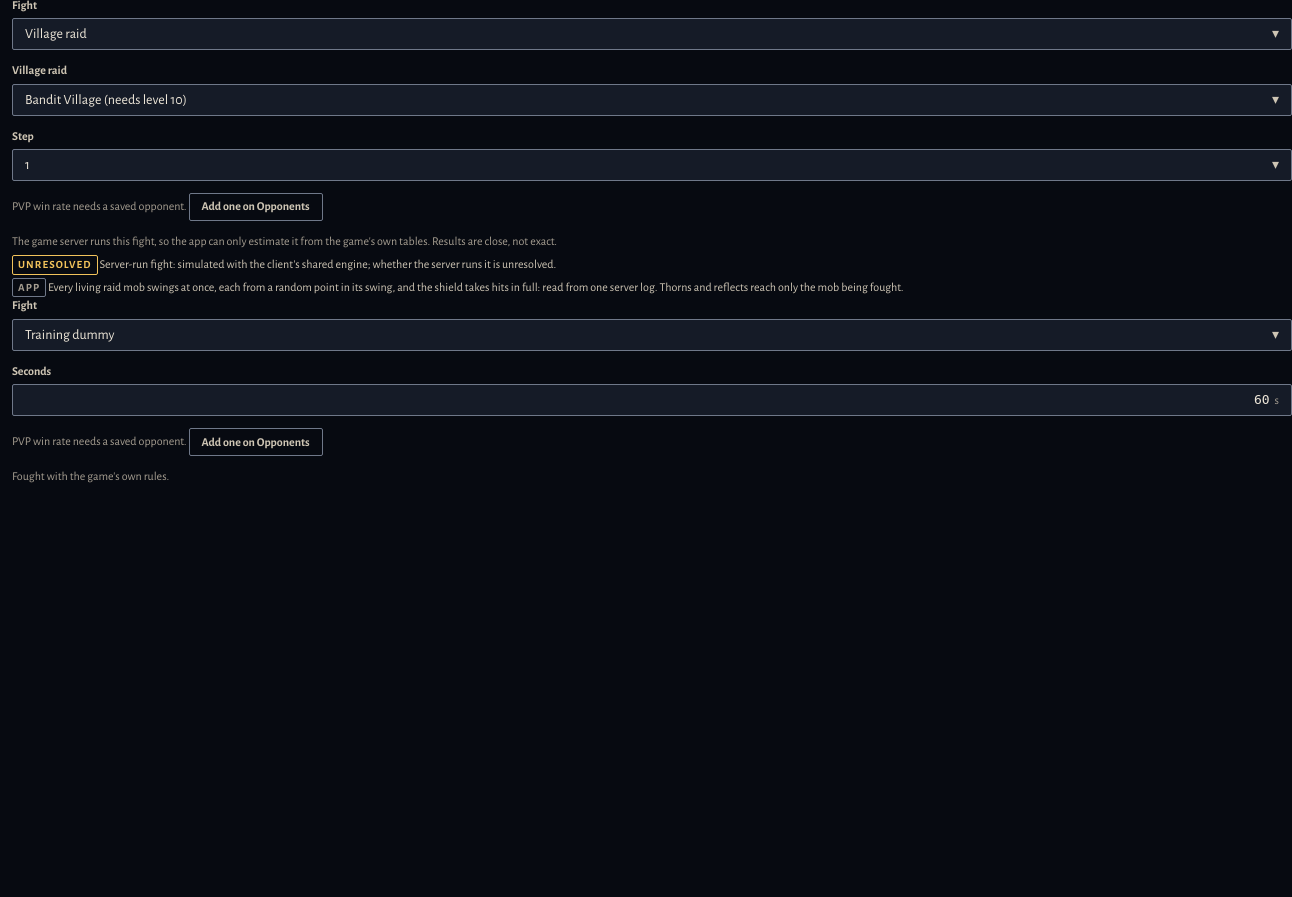
Test: the Fortress boss fields show the shield, drop Stars for the Core and restore them for the Top
Select "Fortress boss" in the 2nd dropdown labelled "Fight": (638, 335) [13,320,1264,350]
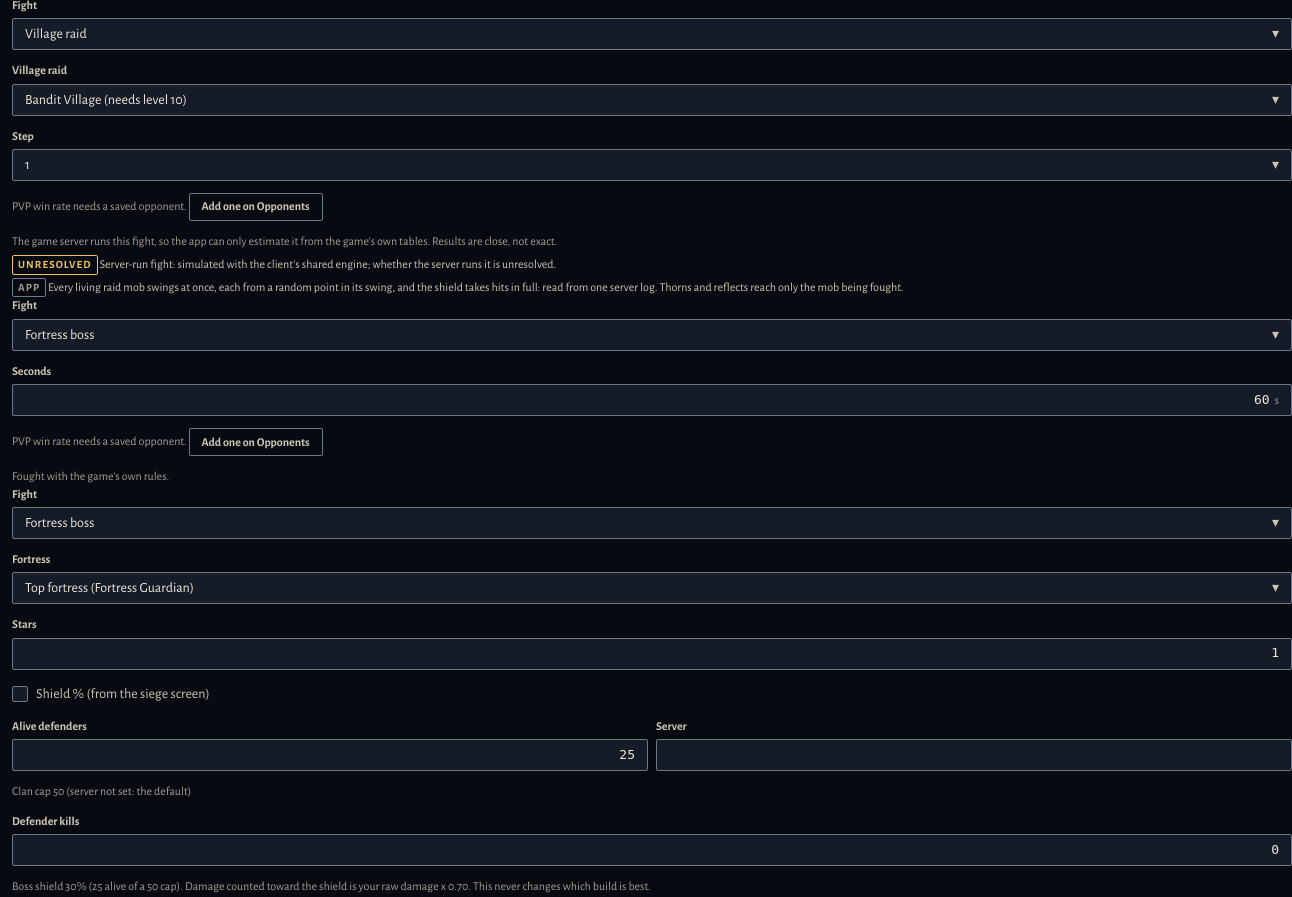
Expected: the field labelled "Stars" is shown, [25,644,1279,663]
Expected: the text with test id "fortress-shield" shows "shield 30% (25 alive of a 50 cap)", [12,880,651,892]
Expected: the text with test id "clan-cap" shows "cap 50", [12,785,191,797]
Replace the text in the field labelled "Alive defenders" with "50": (330, 755) [25,746,635,765]
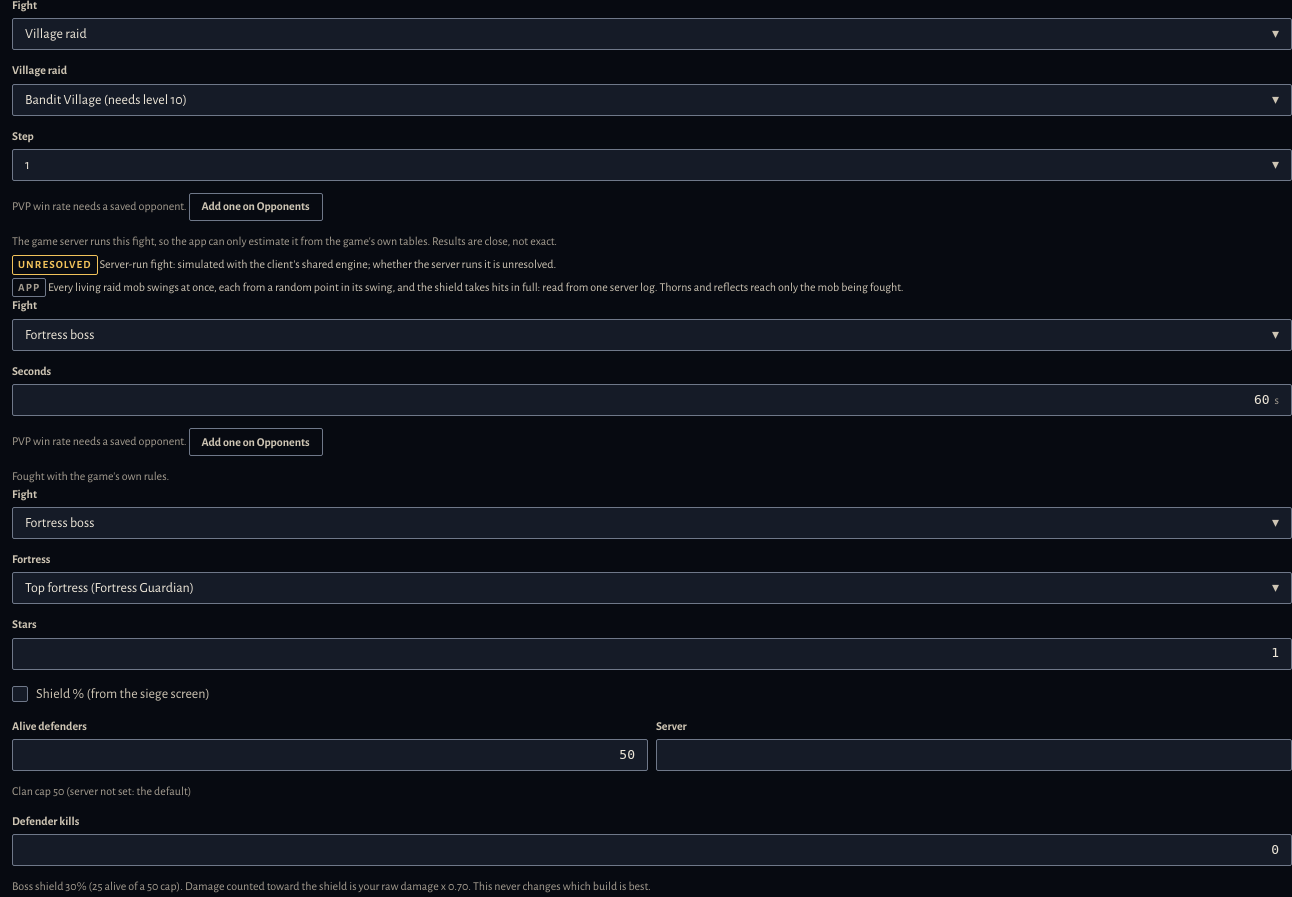
Select "Core (Core Overlord)" in the dropdown labelled "Fortress": (638, 588) [13,573,1264,603]
(page scrolled)
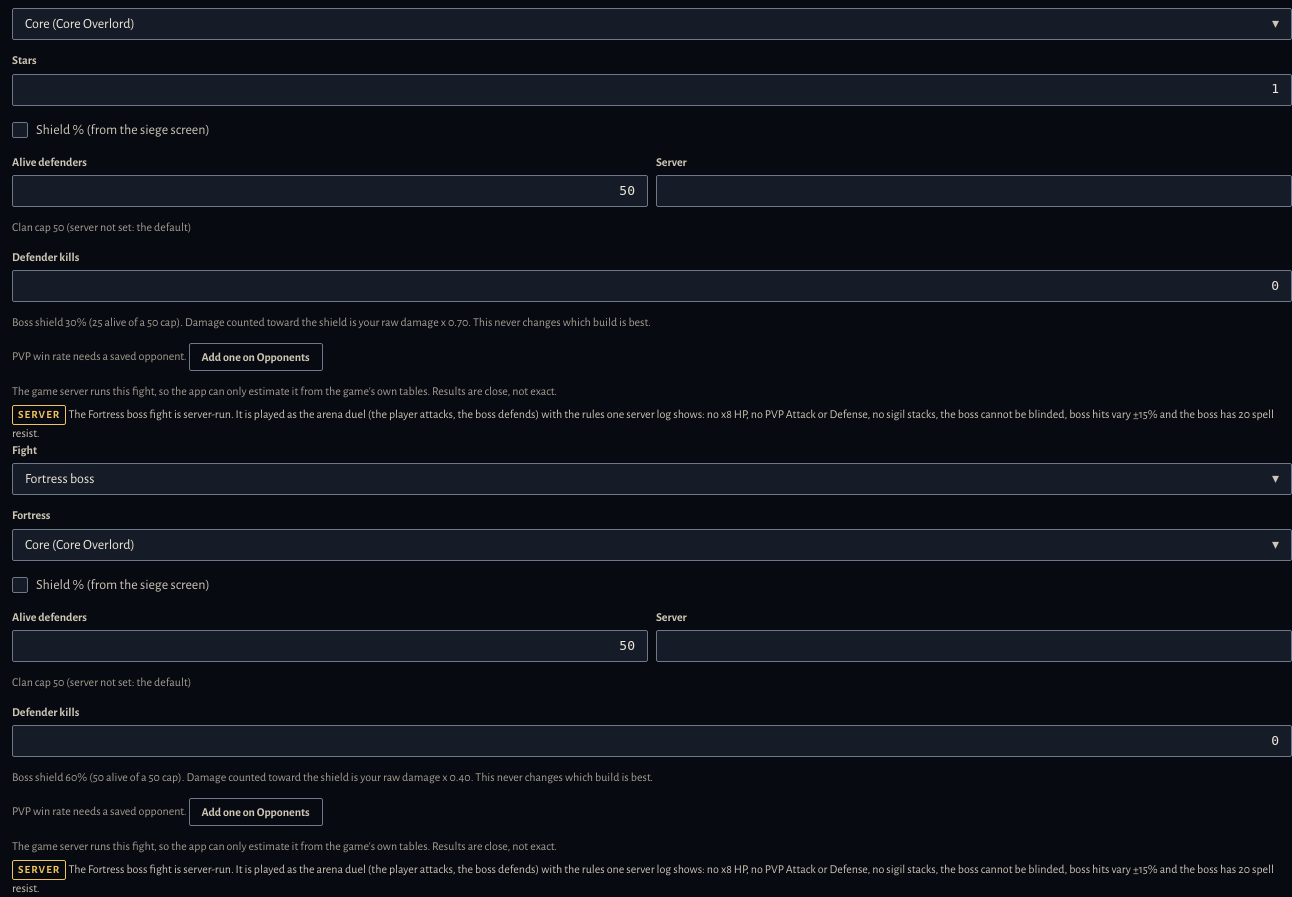
Expected: the 2nd text with test id "fortress-shield" is shown, [12,771,653,783]
Select "Top fortress (Fortress Guardian)" in the 2nd dropdown labelled "Fortress": (638, 545) [13,530,1264,560]
(page scrolled)
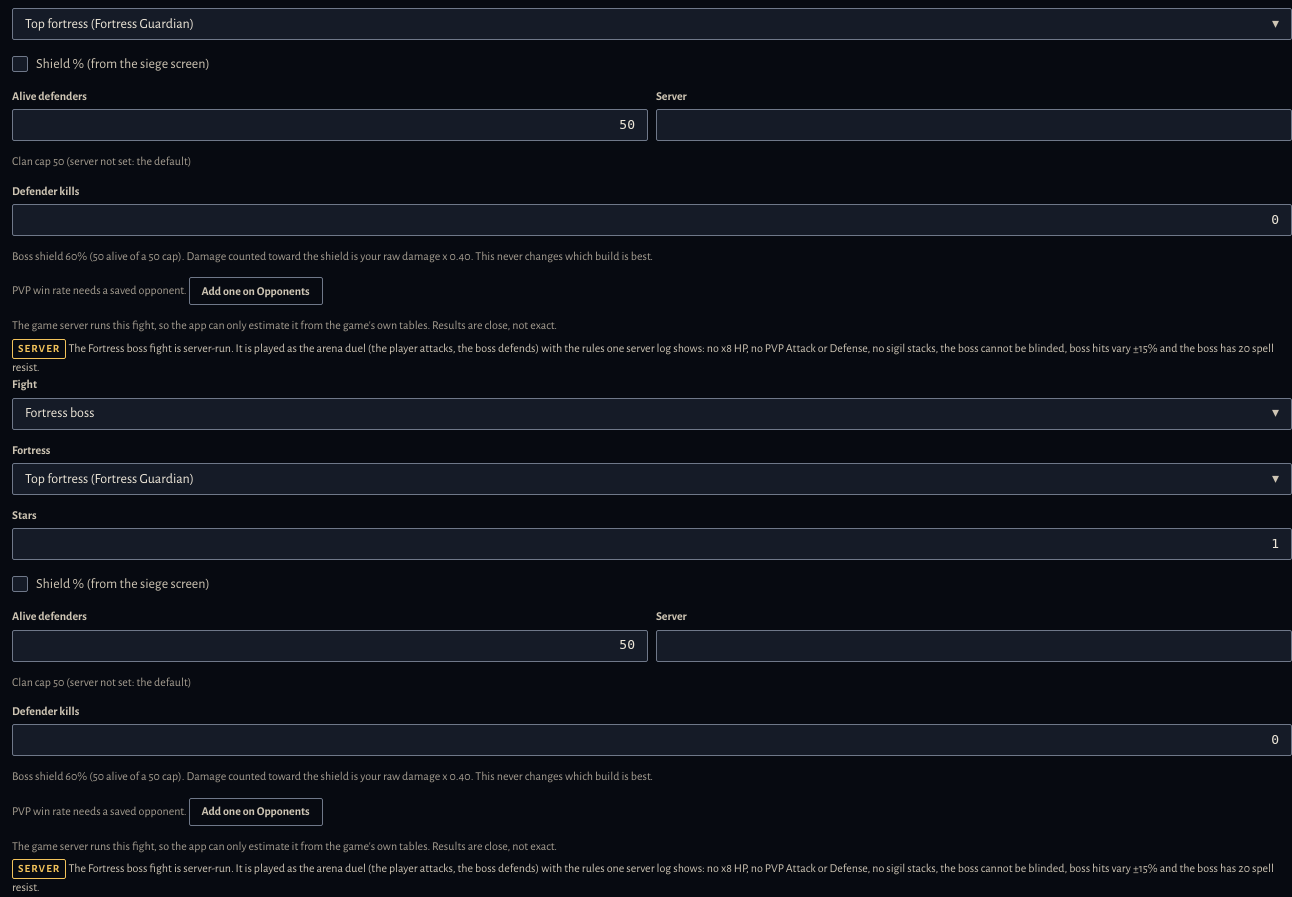
Expected: the field labelled "Stars" is shown, [25,535,1279,554]
